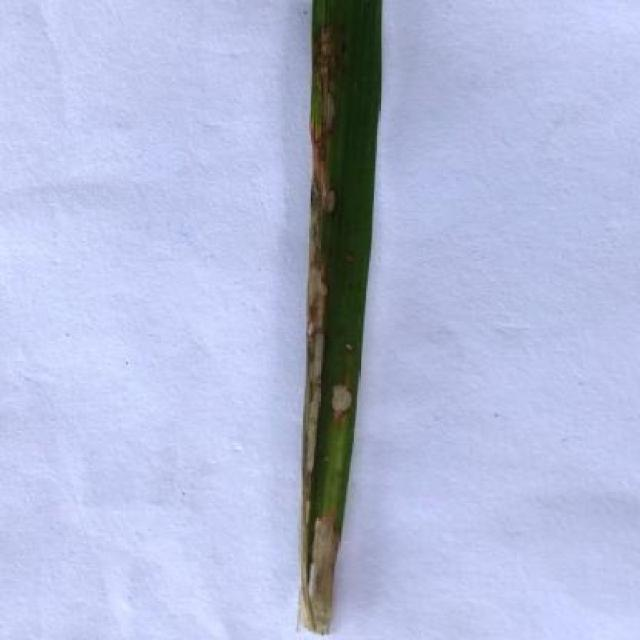Brown_Spot: (293, 0, 392, 640)
